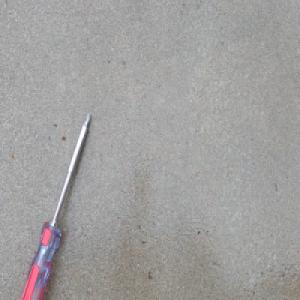Screwdriver: (14, 109, 92, 300)
